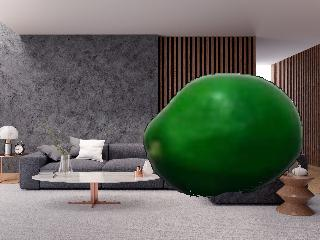lime: (144, 74, 302, 198)
